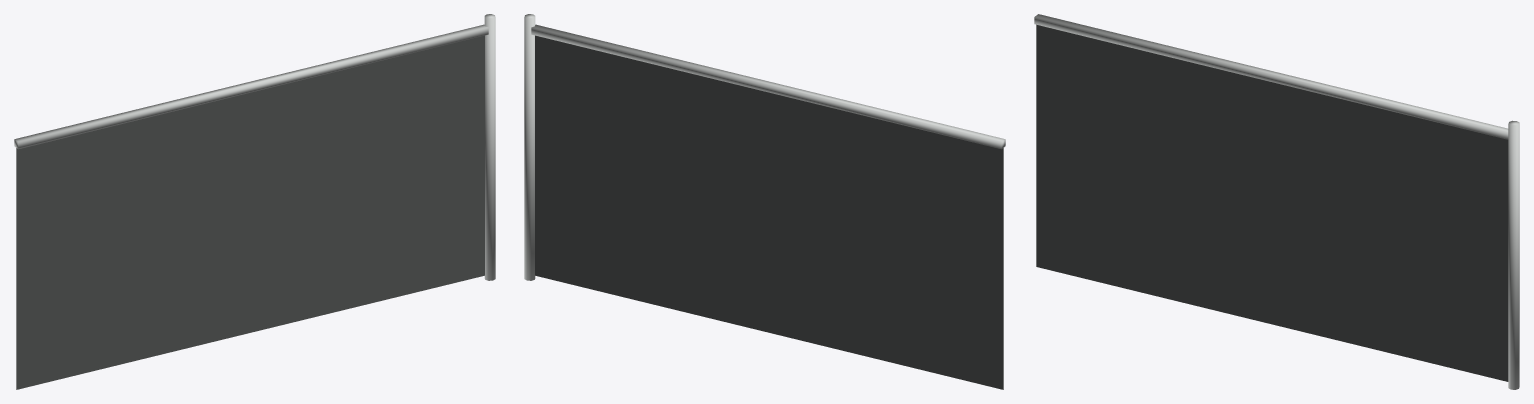
The model's file is fence_chain.glb.
The picture shows the model from 3 angles, left to right: view 1: azimuth 30°, elevation 25°; view 2: azimuth 150°, elevation 25°; view 3: azimuth 330°, elevation 25°; orthographic projection.
Parts seen in each view (by area): view 1: fence_chain; view 2: fence_chain; view 3: fence_chain.
Part boxes in pixels (box(x1,y1,x2,y2)): fence_chain: box(14, 14, 495, 389); fence_chain: box(524, 14, 1005, 389); fence_chain: box(1034, 14, 1519, 389).
Size of the model in its own units: 2.43 by 1.27 by 0.05.
2 materials, 1 textured.
